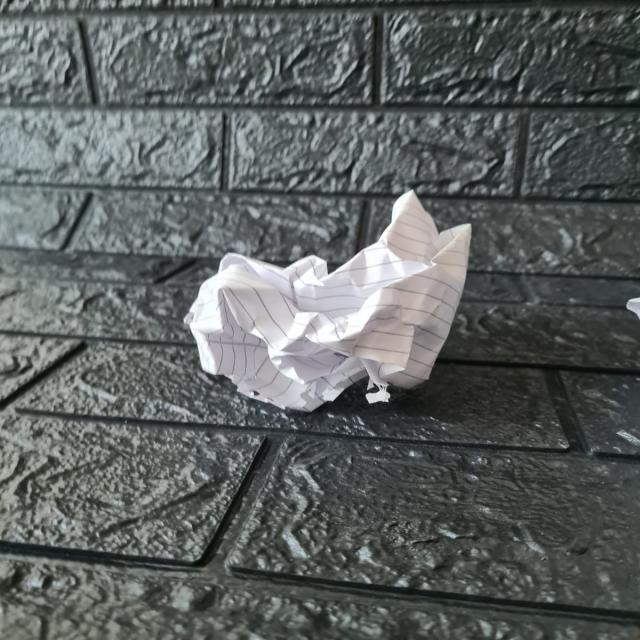Paper: (188, 185, 477, 407)
